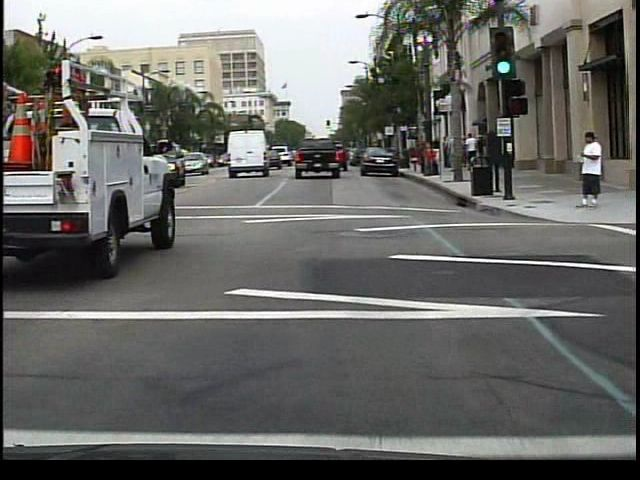person: (573, 134, 608, 215), (416, 140, 437, 180)
